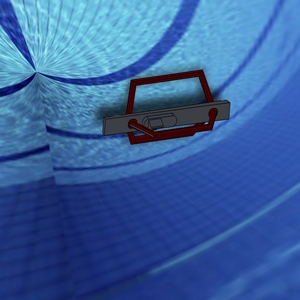submarine: (86, 54, 238, 166)
